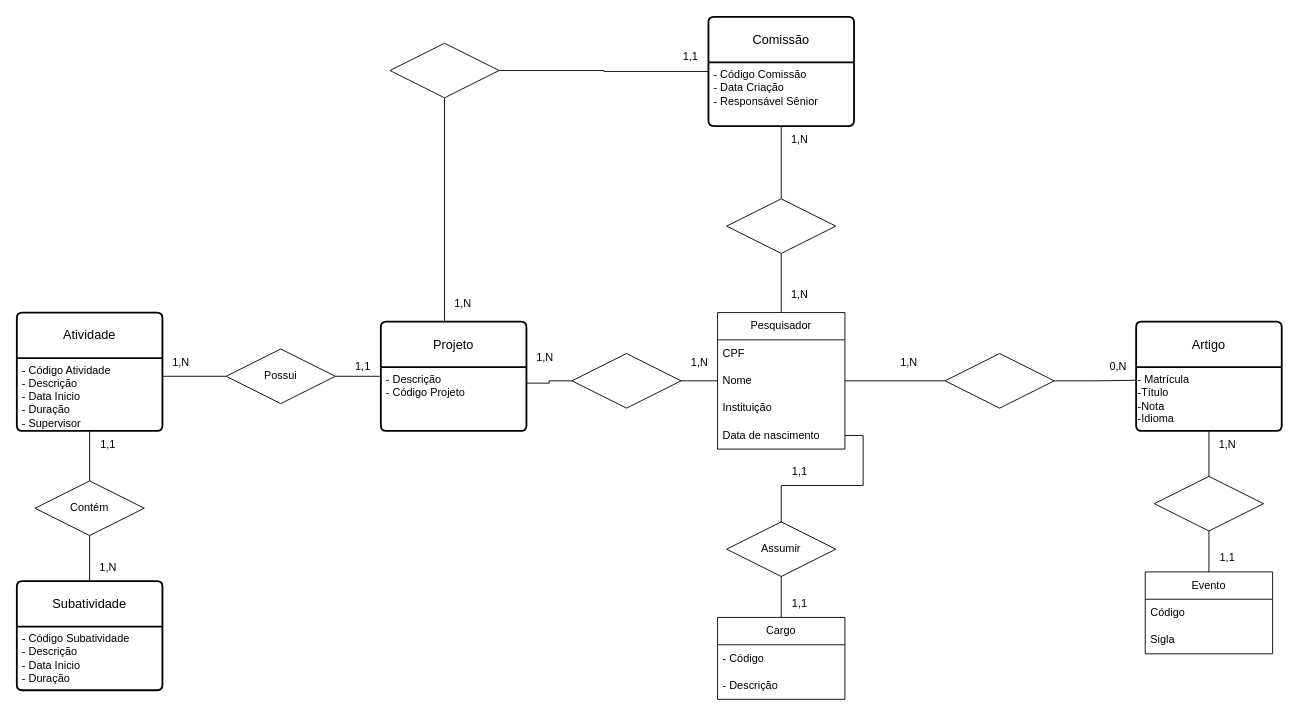
This 1298x715 diagram has some shape labels left out. The centre of each missing label's shape, as x and y in pixels:
Aprovar: point (444, 70)
Compor: point (781, 225)
Escrever: point (999, 380)
Publicar: point (1208, 503)
Realiza: point (626, 380)
